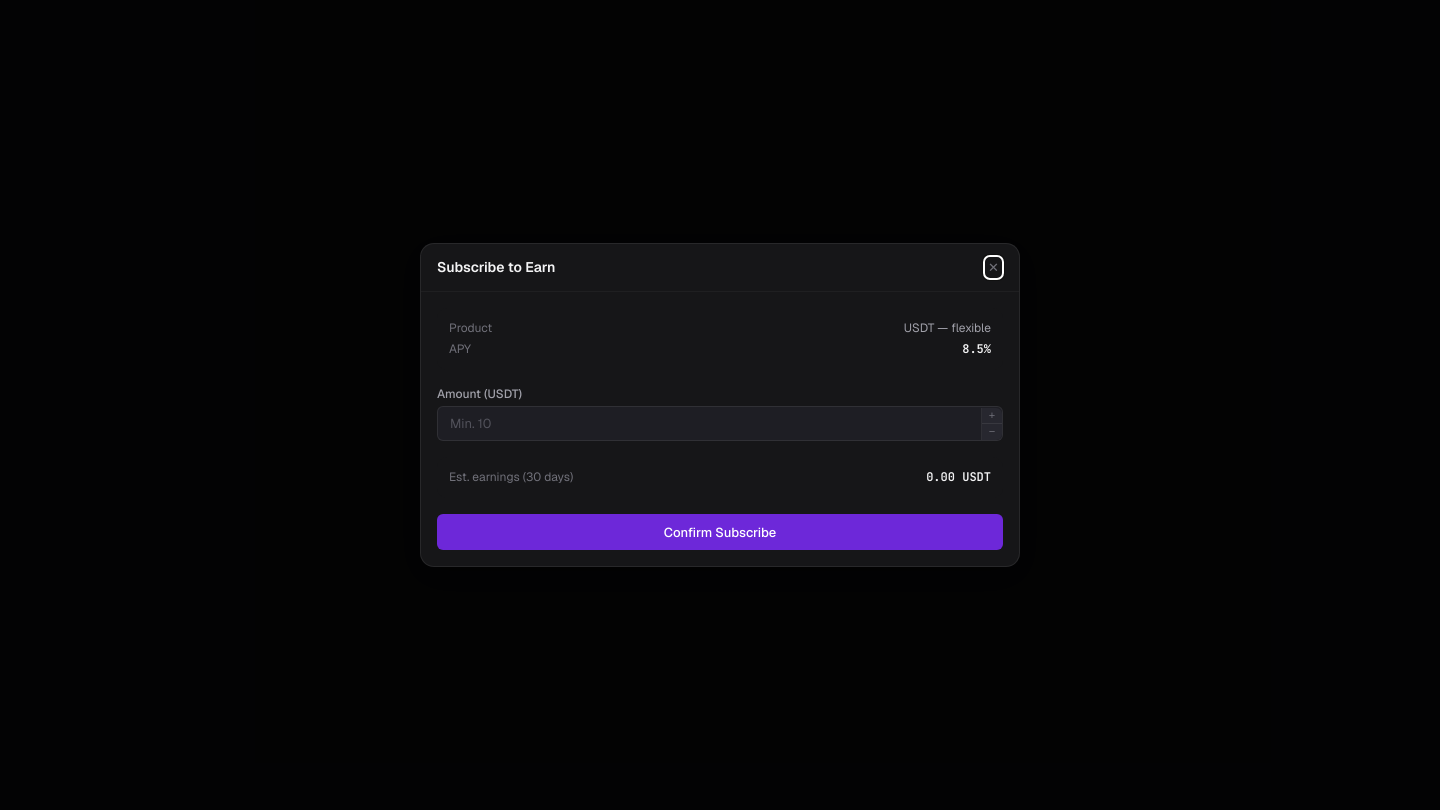
SubscribeModal › shows validation error when amount is empty on submit
What coordinates should you click on to do the following:
click the button "Confirm Subscribe"
I would click on:
 (720, 532)
Its box is [437, 514, 1003, 550].
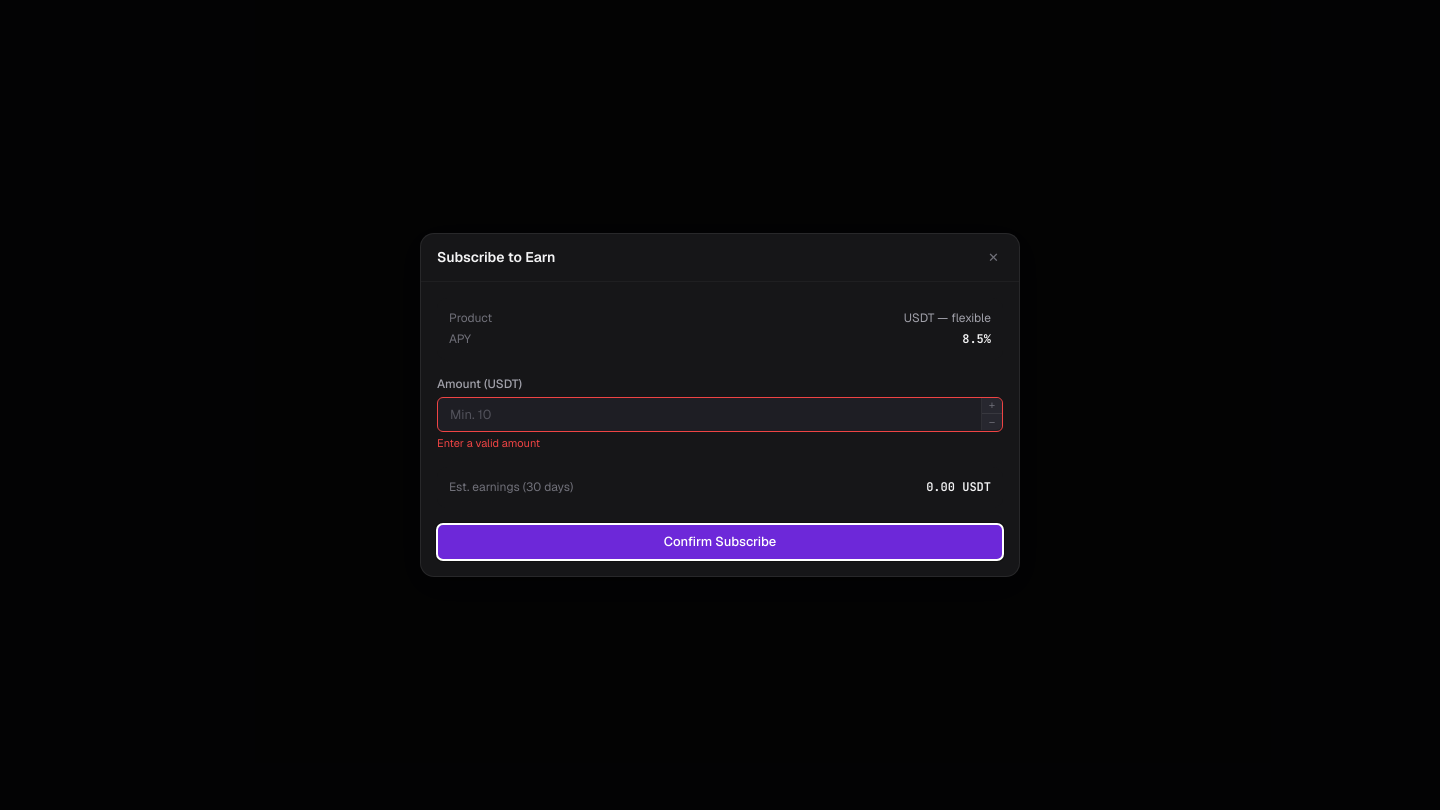
expect the text "Enter a valid amount" is shown: met, box [437, 436, 540, 450]
